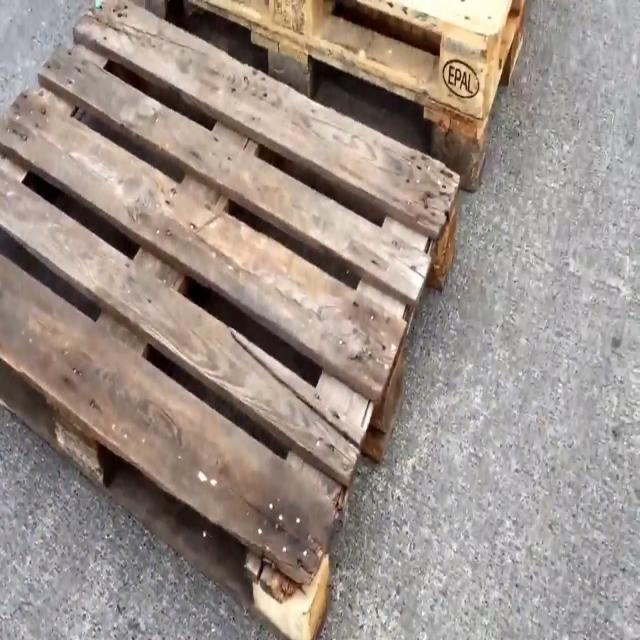Palette: (0, 0, 463, 640), (139, 0, 542, 196)
